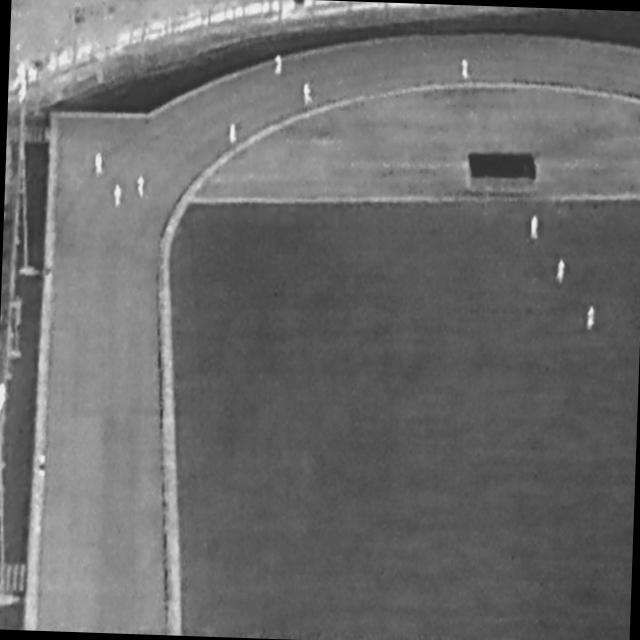person: (113, 184, 124, 209), (557, 260, 567, 286), (530, 216, 540, 241), (95, 153, 105, 177), (304, 83, 314, 107), (137, 175, 146, 200), (228, 123, 238, 144), (588, 306, 596, 332), (275, 55, 284, 76), (40, 455, 48, 478), (462, 60, 471, 80)
